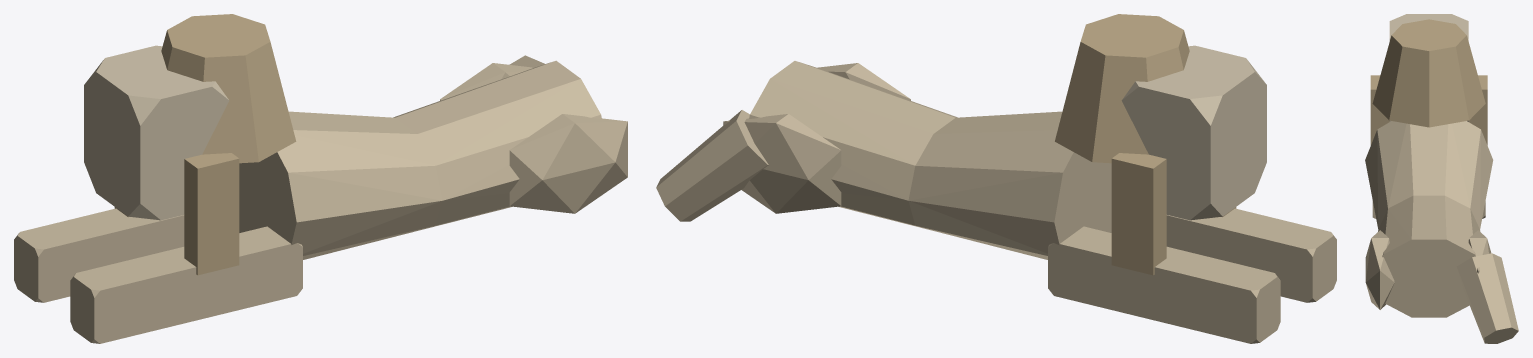
The picture shows the model from 3 angles, left to right: view 1: azimuth 30°, elevation 25°; view 2: azimuth 150°, elevation 25°; view 3: azimuth 270°, elevation 25°; orthographic projection. The views are drawn at different scales.
Visible parts, largest first — view 1: part1, part6, part5, part0, part7, part3, part4, part9, part2; view 2: part1, part6, part4, part0, part7, part5, part2, part8, part10, part3; view 3: part1, part0, part7, part10, part3, part6, part9, part8, part2.
Boxes of the visible parts, x1=… form: part1: x1=239, y1=111, x2=442, y2=259; part6: x1=84, y1=45, x2=229, y2=220; part5: x1=70, y1=226, x2=302, y2=343; part0: x1=393, y1=60, x2=601, y2=229; part7: x1=161, y1=14, x2=296, y2=163; part3: x1=509, y1=114, x2=627, y2=213; part4: x1=14, y1=208, x2=184, y2=302; part9: x1=184, y1=153, x2=239, y2=275; part2: x1=440, y1=63, x2=532, y2=100; part1: x1=908, y1=111, x2=1111, y2=259; part6: x1=1121, y1=45, x2=1266, y2=220; part4: x1=1048, y1=226, x2=1280, y2=343; part0: x1=749, y1=61, x2=957, y2=229; part7: x1=1055, y1=14, x2=1189, y2=163; part5: x1=1166, y1=208, x2=1336, y2=302; part2: x1=723, y1=114, x2=841, y2=213; part8: x1=1111, y1=153, x2=1166, y2=275; part10: x1=656, y1=110, x2=768, y2=221; part3: x1=817, y1=63, x2=910, y2=100; part1: x1=1365, y1=121, x2=1493, y2=228; part0: x1=1378, y1=195, x2=1480, y2=317; part7: x1=1372, y1=19, x2=1485, y2=127; part10: x1=1456, y1=253, x2=1518, y2=343; part3: x1=1365, y1=230, x2=1394, y2=309; part6: x1=1389, y1=14, x2=1468, y2=121; part9: x1=1370, y1=75, x2=1389, y2=145; part8: x1=1468, y1=75, x2=1487, y2=145; part2: x1=1468, y1=230, x2=1491, y2=273.
Bounding box in the file's own units: 7.12 × 2.84 × 2.28.
